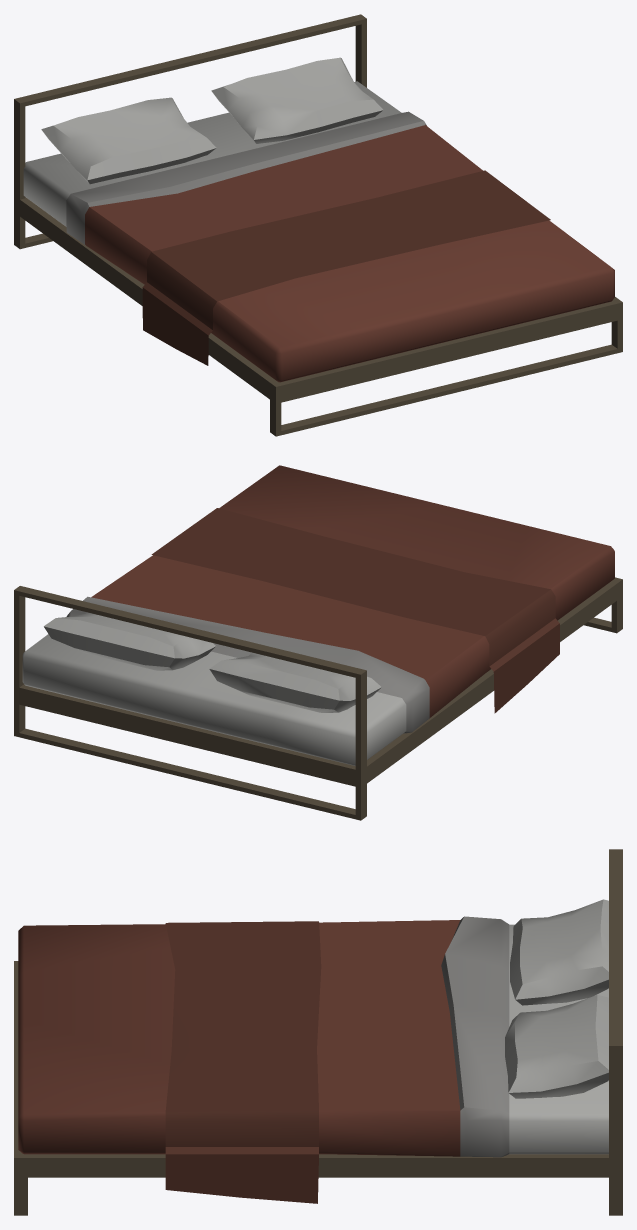
File: Bed_King.glb
The picture shows the model from 3 angles, top to bottom: view 1: azimuth 30°, elevation 25°; view 2: azimuth 150°, elevation 25°; view 3: azimuth 270°, elevation 25°; orthographic projection. The views are drawn at different scales.
Parts seen in each view (by area): view 1: Bed_King; view 2: Bed_King; view 3: Bed_King.
Boxes of the visible parts, x1,y1,x2,y2 form: Bed_King: (14,14,622,436); Bed_King: (14,465,622,820); Bed_King: (14,849,622,1215).
Size of the model in its own units: 1.5 by 0.5939 by 1.93.
5 materials, 5 textured.
